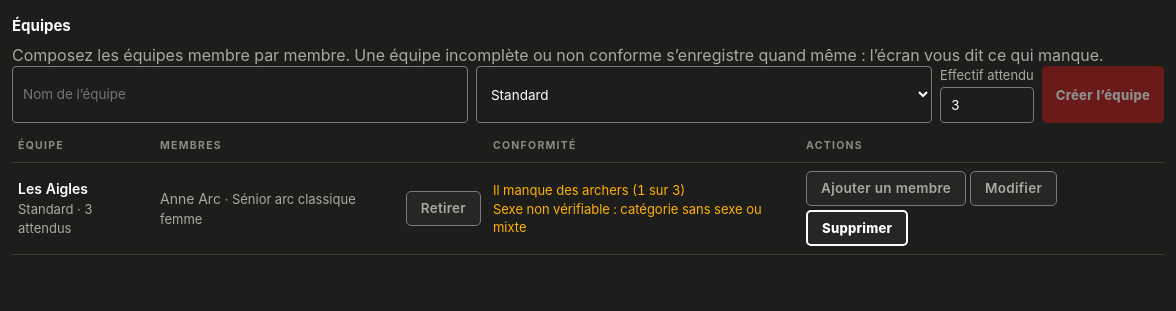
it: Équipes › modifie une équipe : le PUT porte nom, type et effectif, puis la liste est relue
The image size is (1176, 311).
Step 1. Click the button with aria-label "Modifier l’équipe Les Aigles" → (1014,189), box x1=970 y1=171 x2=1057 y2=206
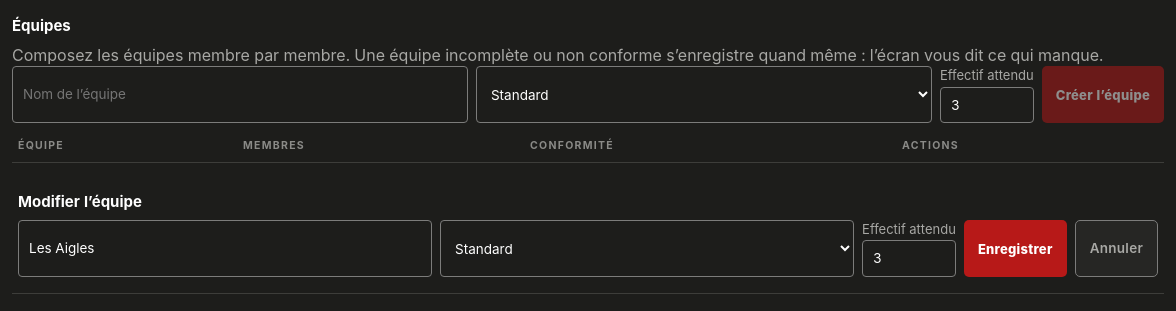
Step 2. Replace the text in the field named "Nom de l’équipe" with "Les Faucons" → (225,249), box x1=18 y1=220 x2=432 y2=277
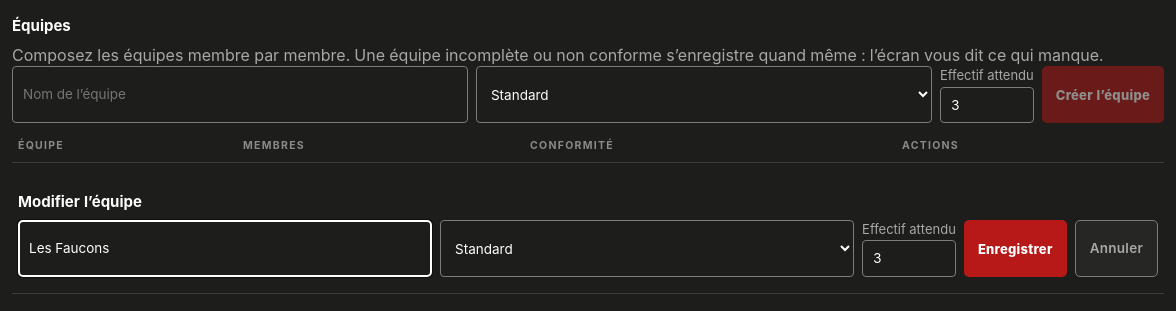
Step 3. Select "Mixte" in the dropdown named "Type d’équipe" below "Membres" → (647,249), box x1=440 y1=220 x2=854 y2=277
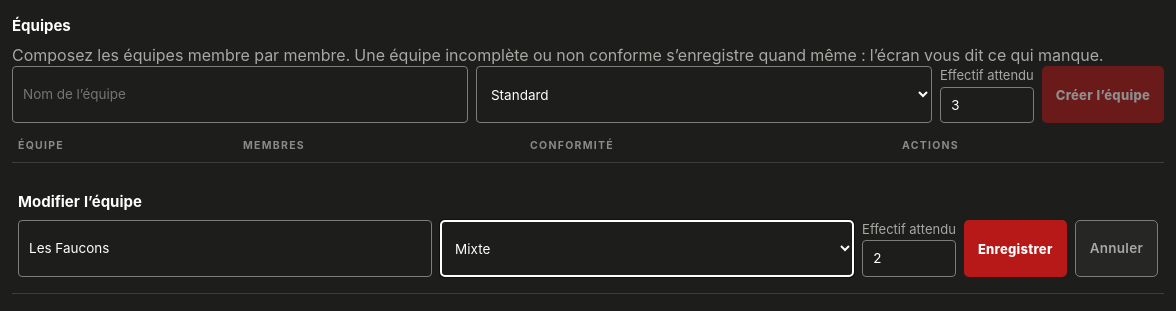
Step 4. Click the button "Enregistrer" → (1015,249), box x1=964 y1=220 x2=1067 y2=277
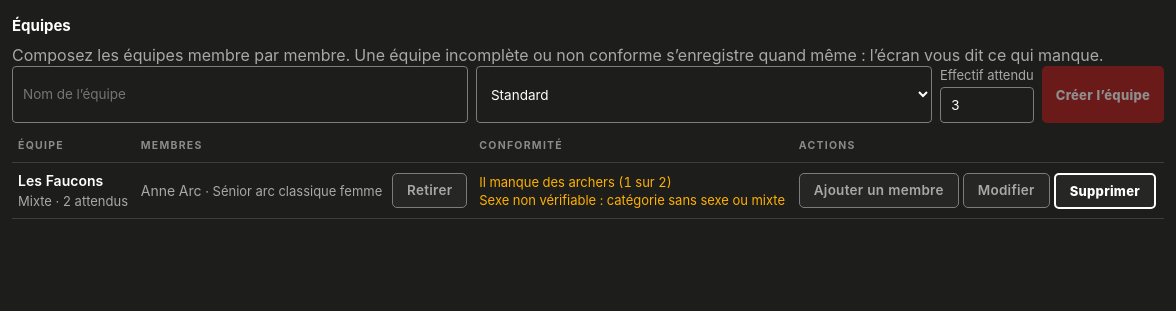
Expected: the text "Les Faucons" is shown, x1=18 y1=172 x2=103 y2=189
